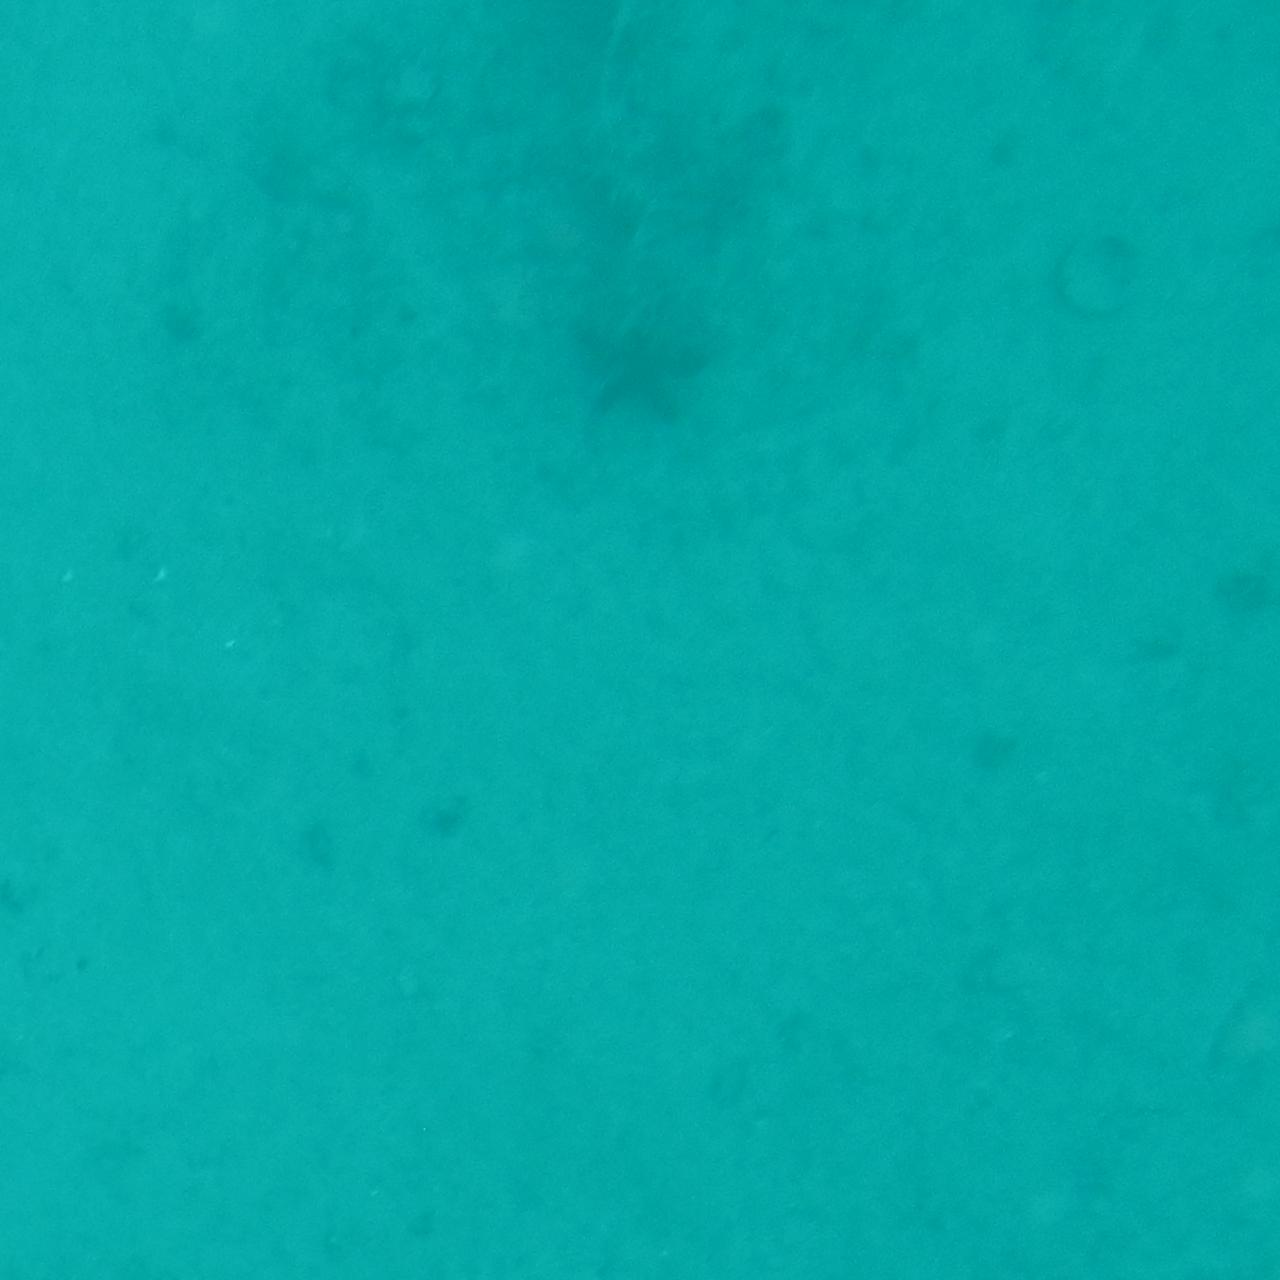Asteroidea: (563, 295, 717, 445)
